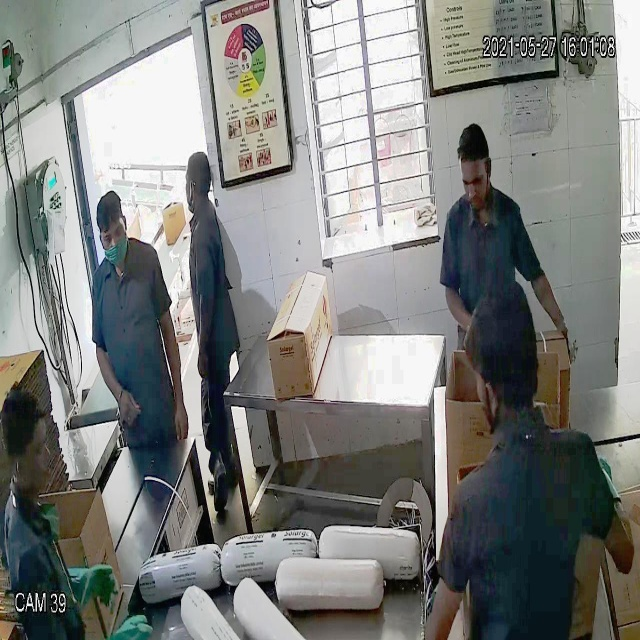Sin_gafas: (92, 211, 132, 250), (457, 165, 493, 193)
